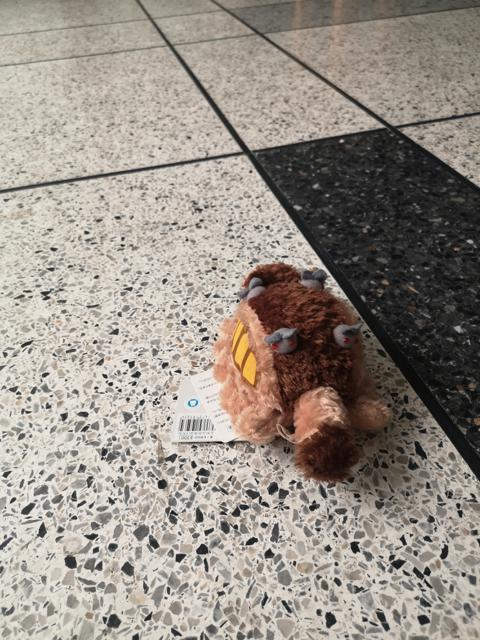nekobus: (201, 256, 403, 485)
